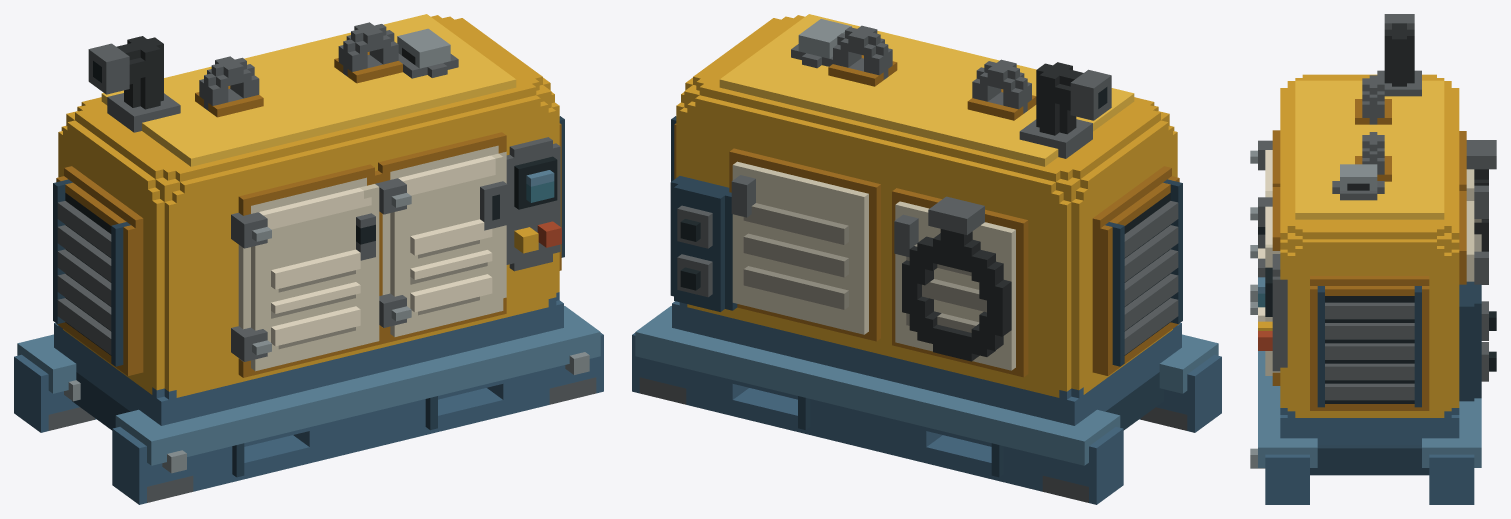
The model's file is generator.glb.
3 views of the same model, side by side, from view 1: azimuth 30°, elevation 25°; view 2: azimuth 150°, elevation 25°; view 3: azimuth 270°, elevation 25° (orthographic). The views are drawn at different scales.
Parts seen in each view (by area): view 1: generator; view 2: generator; view 3: generator.
Boxes of the visible parts, x1,y1,x2,y2 form: generator: [14, 14, 603, 504]; generator: [632, 14, 1221, 504]; generator: [1250, 14, 1496, 504].
Bounding box in the file's own units: 4.8 × 3.76 × 2.64.
